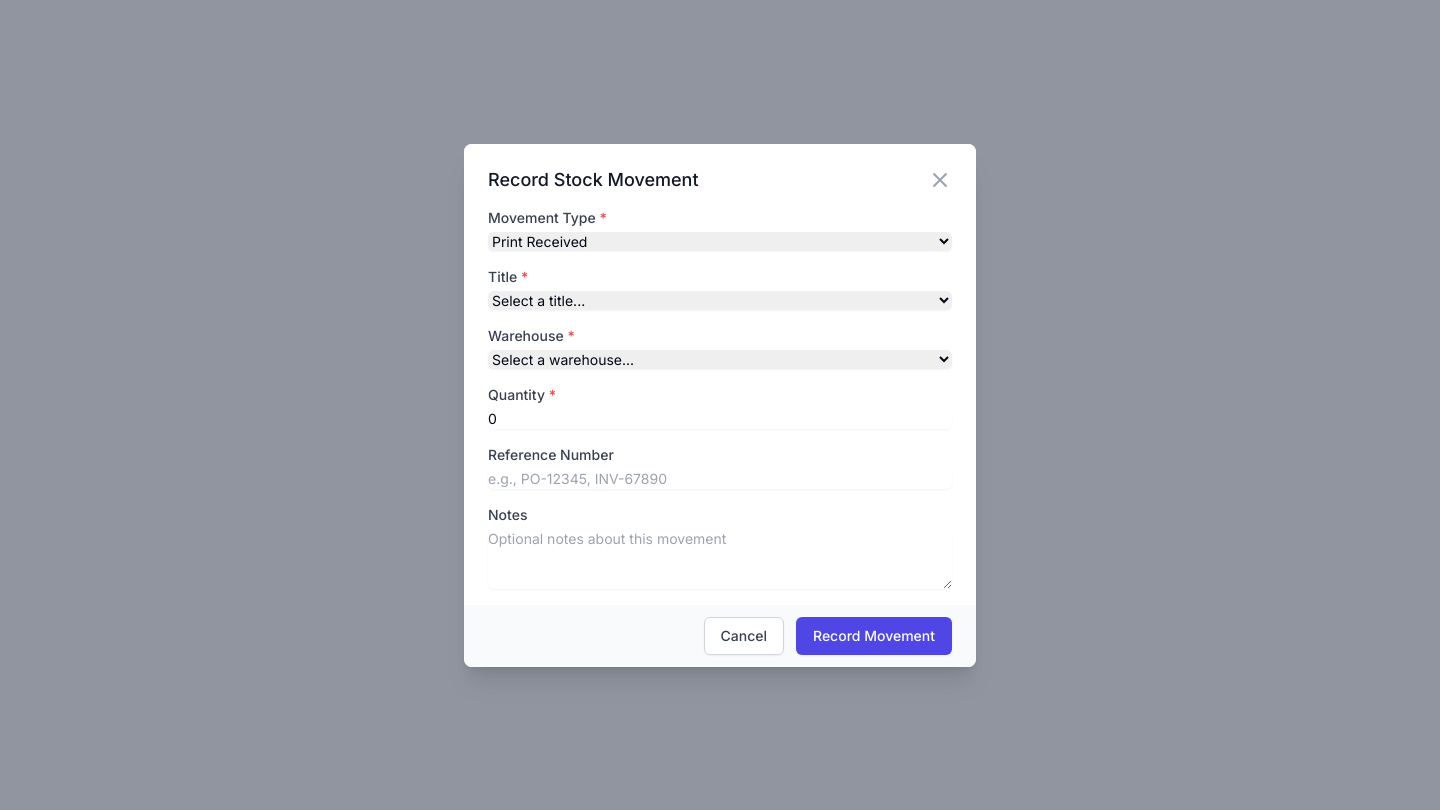
Test case: StockMovementModal Component › Form Fields › should show source and destination warehouses for transfer movements
The width and height of the screenshot is (1440, 810).
Step 1. Select "Warehouse Transfer" in the dropdown labelled "Movement Type *" → point(720, 241), box [488, 232, 952, 250]
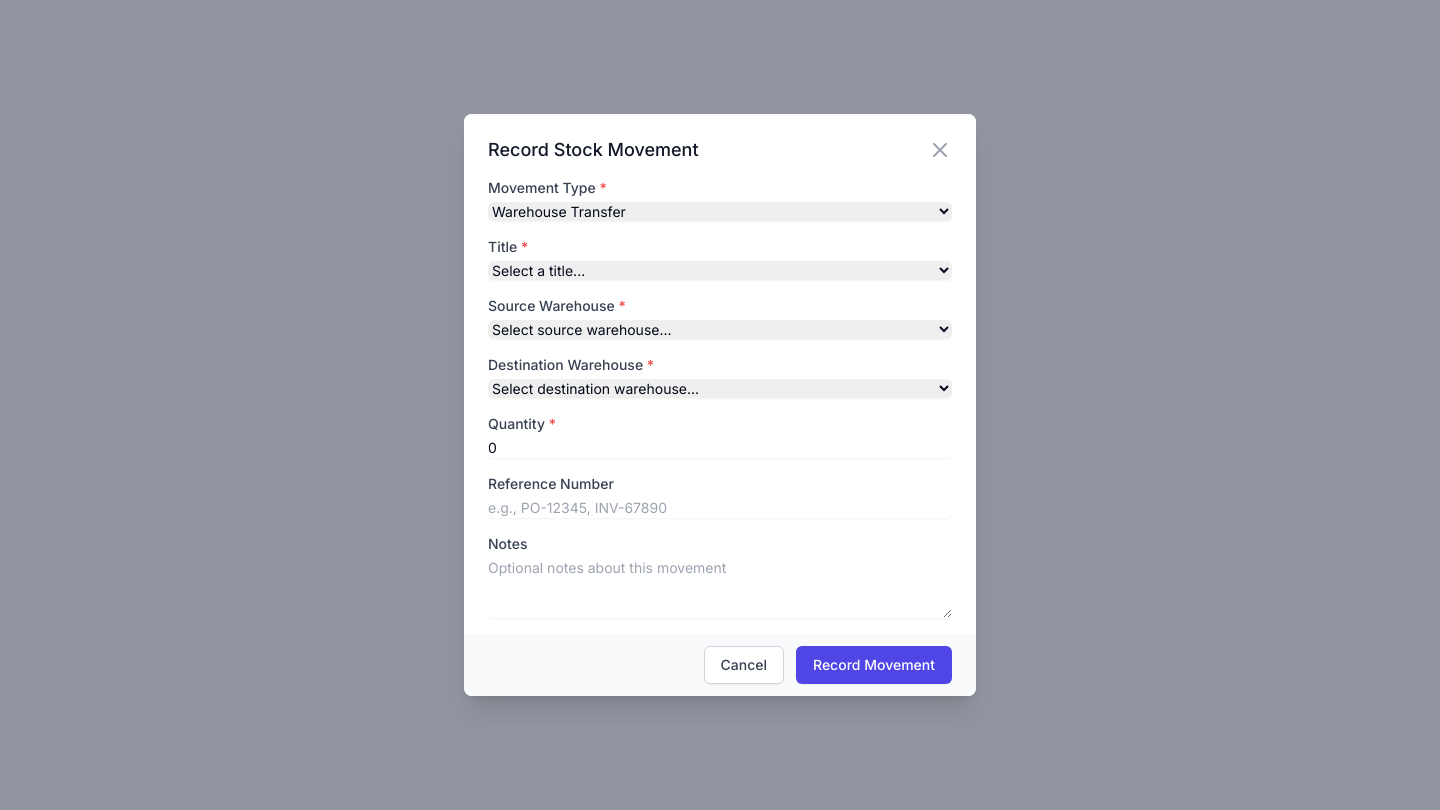
Result: the dropdown labelled "Source Warehouse *" is shown at [488, 320, 952, 339]
Result: the dropdown labelled "Destination Warehouse *" is shown at [488, 379, 952, 398]
